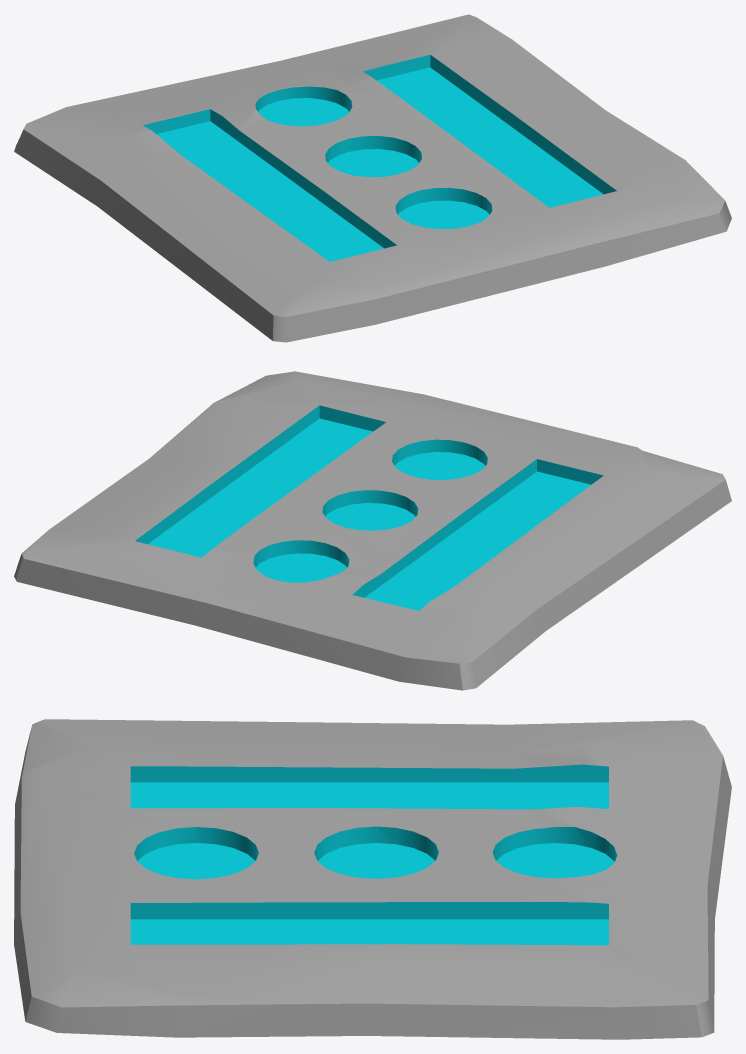
The model's file is dalle13.fbx.
The picture shows the model from 3 angles, top to bottom: view 1: azimuth 30°, elevation 25°; view 2: azimuth 150°, elevation 25°; view 3: azimuth 270°, elevation 25°; orthographic projection. The views are drawn at different scales.
Visible parts, largest first — view 1: pCube3; view 2: pCube3; view 3: pCube3.
Part boxes in pixels (x1=…): pCube3: x1=14, y1=14, x2=731, y2=342; pCube3: x1=14, y1=371, x2=731, y2=690; pCube3: x1=14, y1=719, x2=731, y2=1039.
Bounding box in the file's own units: 6.99 × 0.4395 × 7.18.
